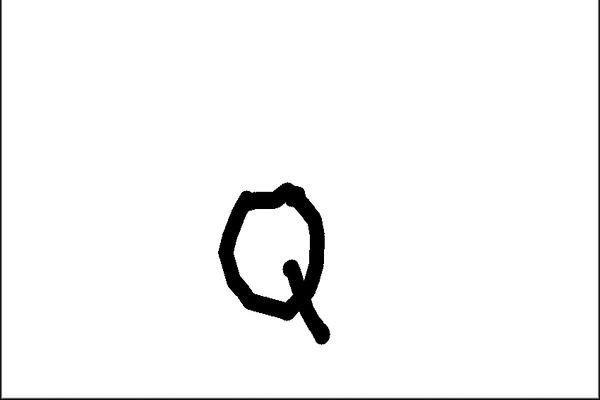Q: (211, 176, 339, 348)
